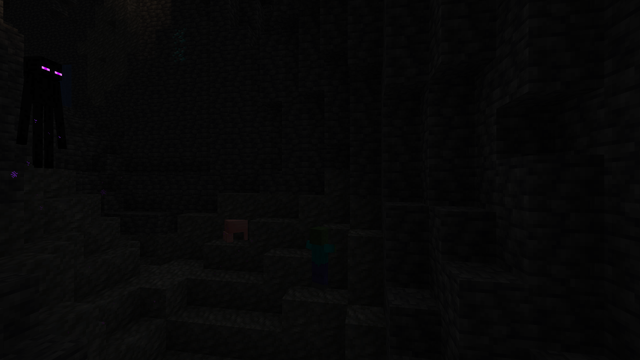cochons: (223, 218, 247, 242)
endermens: (19, 51, 64, 166)
zombies: (309, 227, 329, 291)
